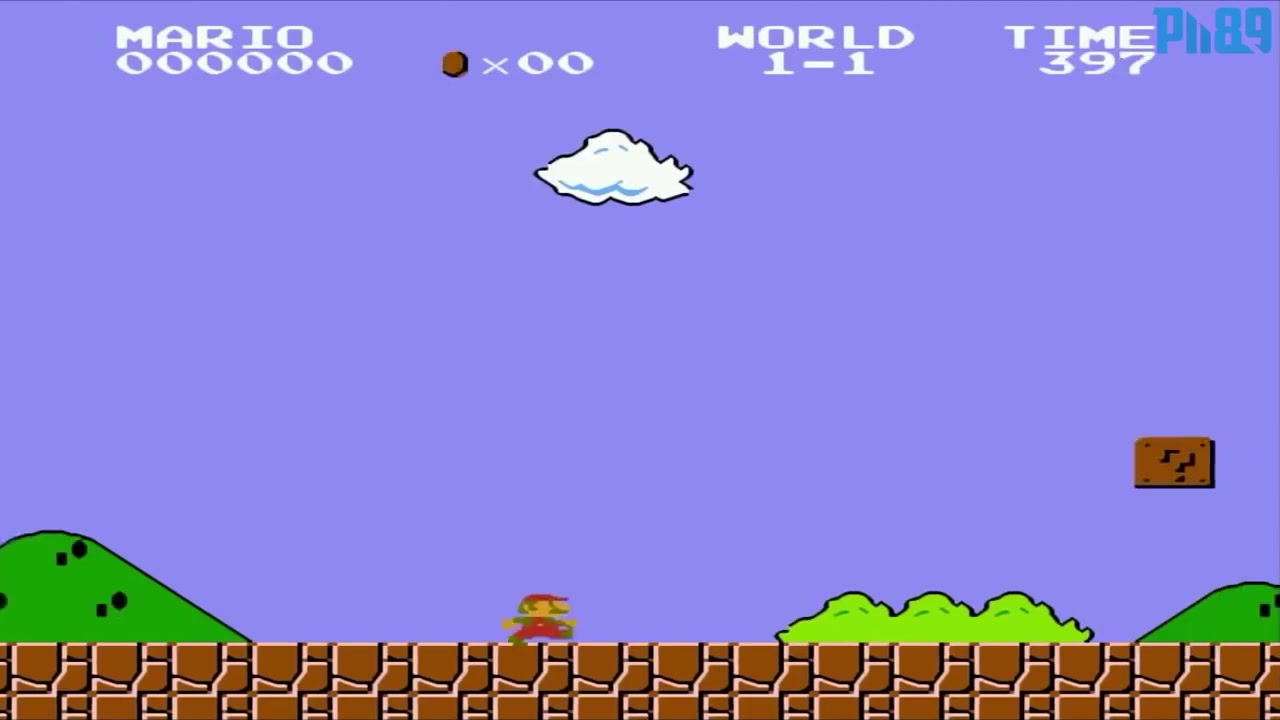mario: (487, 586, 583, 647)
